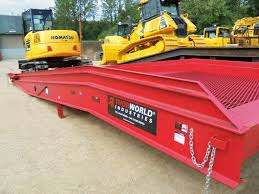Yard Ramp: (6, 63, 259, 192)
